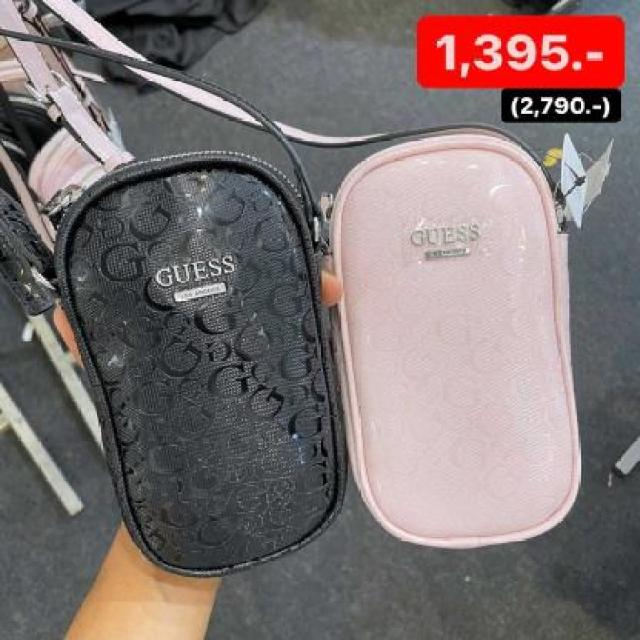Bag: (61, 133, 365, 596), (319, 93, 613, 567)
